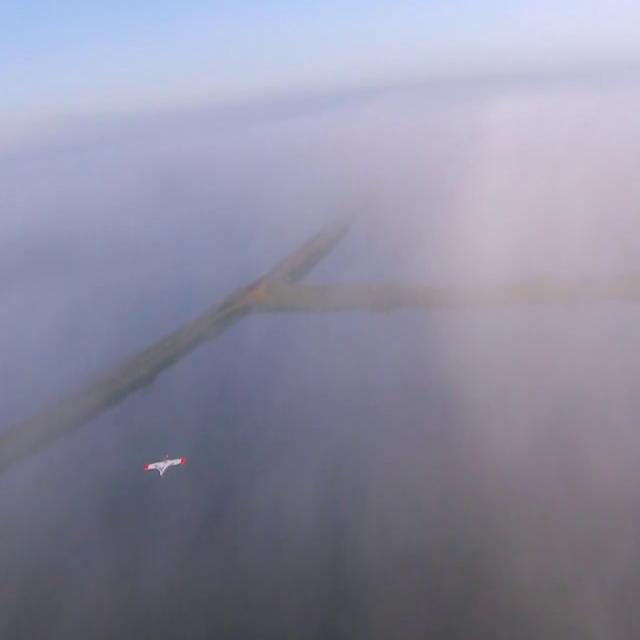iha: (145, 456, 187, 478)
